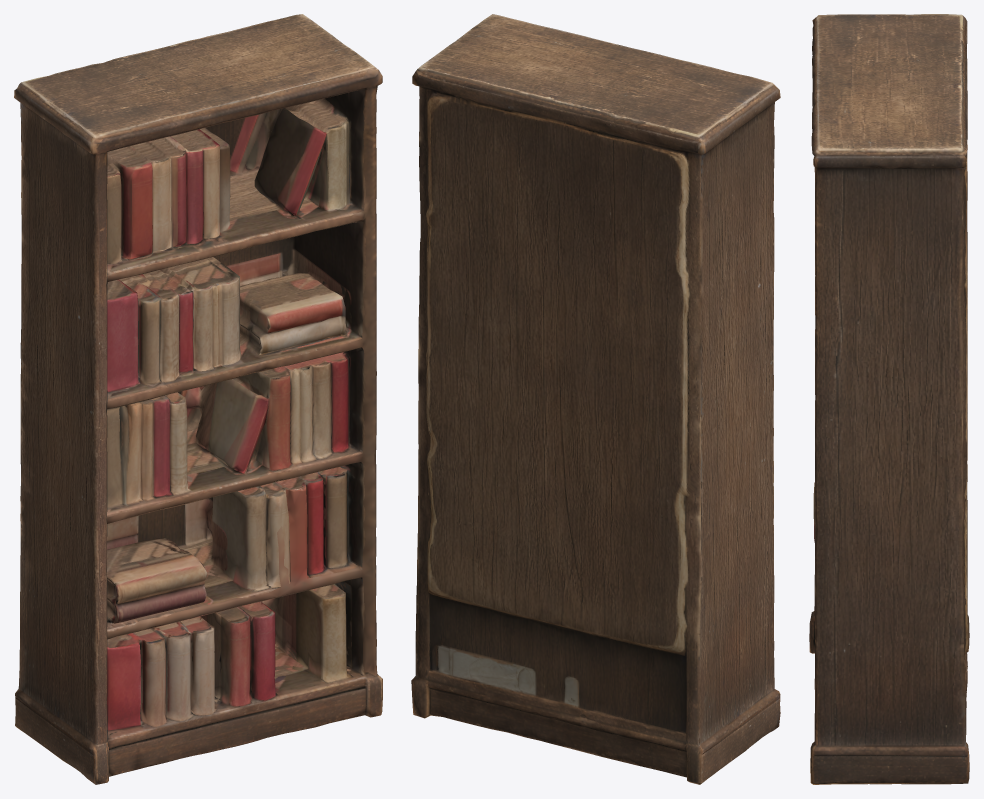
The model's file is VAR_LivingRoom_Bookcase.fbx.
The picture shows the model from 3 angles, left to right: view 1: azimuth 30°, elevation 25°; view 2: azimuth 150°, elevation 25°; view 3: azimuth 270°, elevation 25°; orthographic projection.
Parts seen in each view (by area): view 1: texture_mapping; view 2: texture_mapping; view 3: texture_mapping.
Part boxes in pixels (left/top/right/bottom): texture_mapping: left=14, top=14, right=382, bottom=784; texture_mapping: left=411, top=14, right=780, bottom=784; texture_mapping: left=809, top=14, right=969, bottom=784.
Size of the model in its own units: 0.4724 by 0.2282 by 0.9994.
1 material, 1 textured.
